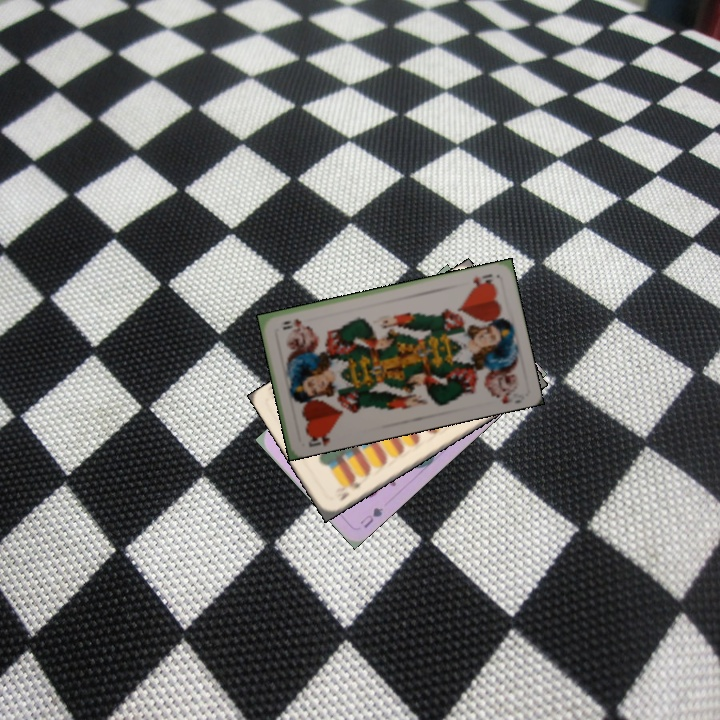E10: (336, 475, 364, 503)
GU: (356, 503, 386, 531)
HO: (303, 426, 335, 450), (469, 270, 496, 288)
